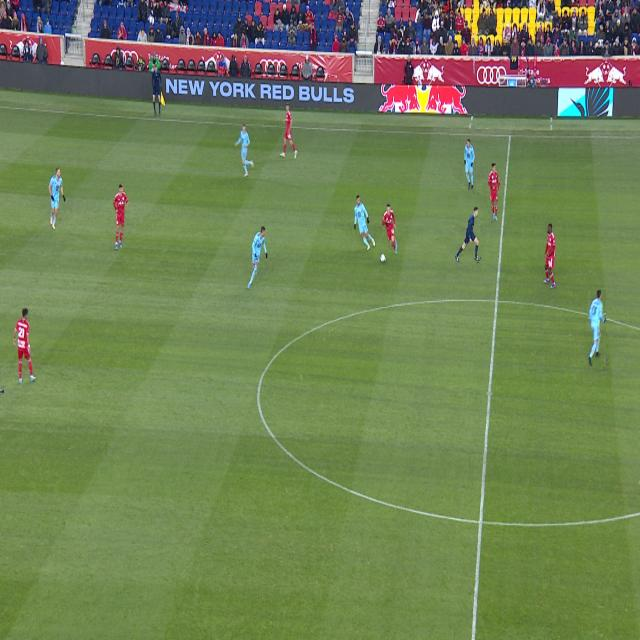player: (13, 308, 36, 384), (589, 291, 606, 367), (354, 195, 376, 250), (248, 226, 267, 289), (48, 167, 66, 229), (234, 124, 254, 177), (113, 184, 128, 249), (280, 103, 297, 159), (544, 224, 556, 288), (382, 204, 397, 254), (489, 163, 499, 221), (464, 139, 475, 189), (0, 387, 4, 394)
referee: (456, 207, 480, 262), (381, 254, 385, 263)
